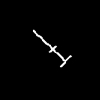double_crochet: (33, 30, 71, 66)
